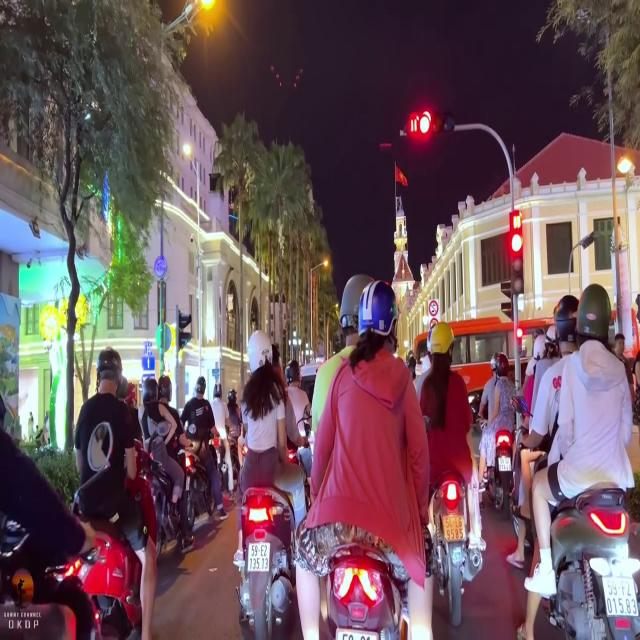bien_trang: (604, 576, 639, 617), (244, 537, 272, 575), (444, 516, 465, 539)
